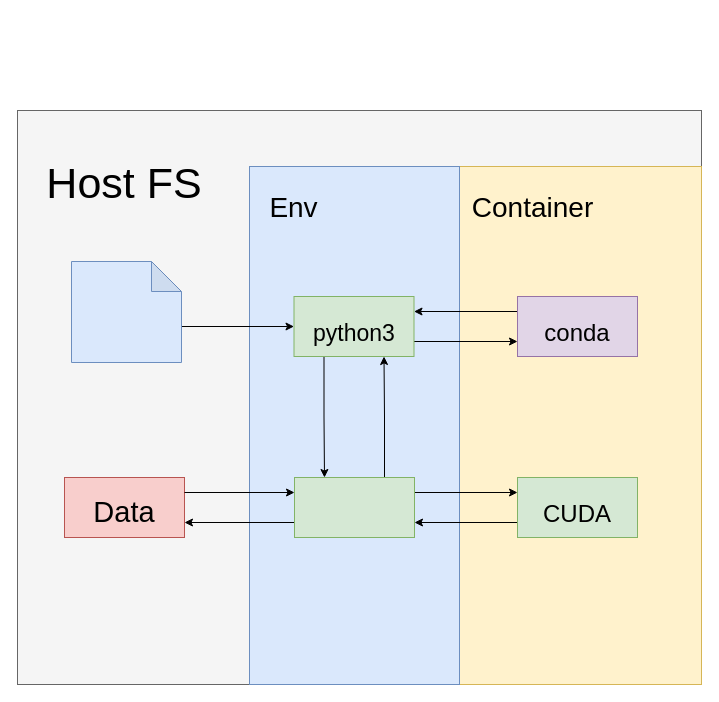
The diagram is 719 pixels wide and 702 high, and some of its shapes have lost their labels. The centre of each missing label's shape, as x and y in pixels:
"Pytorch" belongs at (x=354, y=507).
"script.py" belongs at (x=126, y=311).
